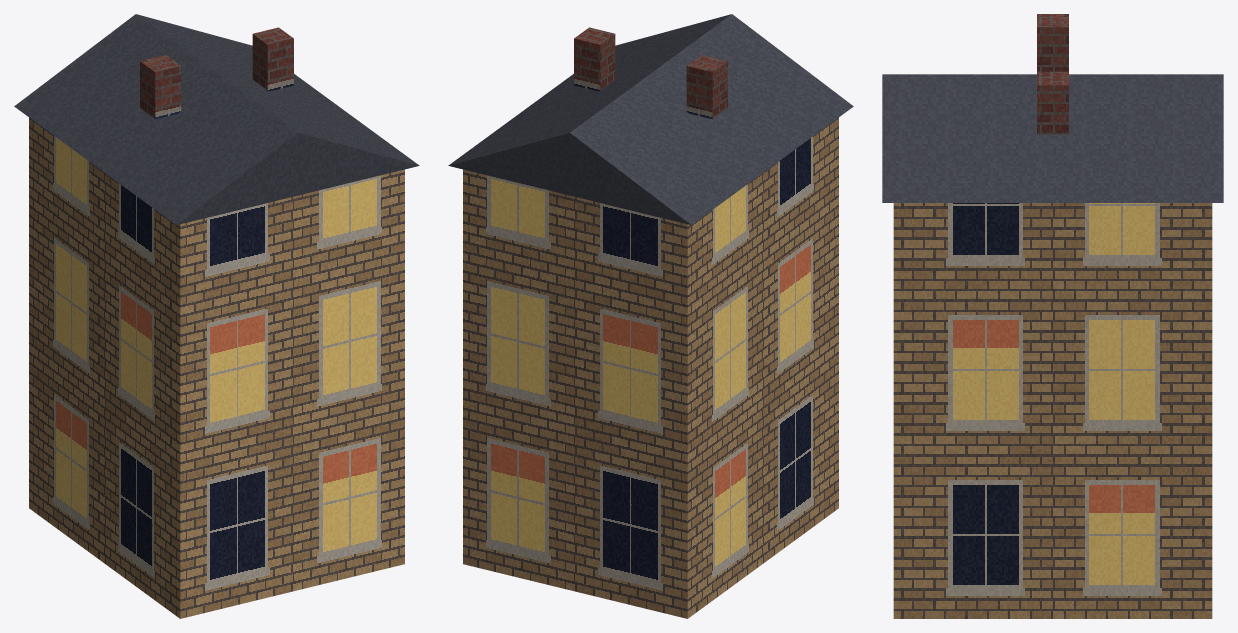
Rendered from env_terrace_c.glb.
3 views of the same model, side by side, from view 1: azimuth 30°, elevation 25°; view 2: azimuth 150°, elevation 25°; view 3: azimuth 270°, elevation 25° (orthographic). The views are drawn at different scales.
Parts seen in each view (by area): view 1: env_terrace_c; view 2: env_terrace_c; view 3: env_terrace_c.
Part boxes in pixels (x1,y1,x2,y2): env_terrace_c: [14, 14, 419, 618]; env_terrace_c: [448, 14, 853, 618]; env_terrace_c: [882, 14, 1223, 618].
Size of the model in its own units: 6.5 by 12.4 by 7.5.
3 materials, 3 textured.
